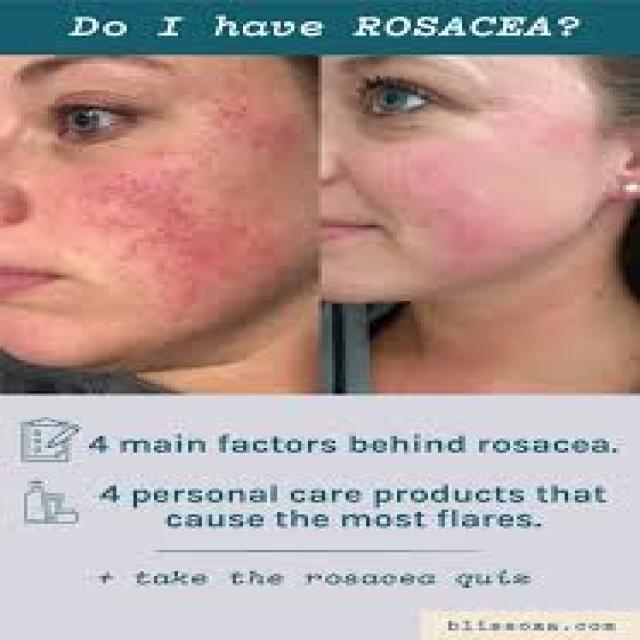Rosacea: (59, 119, 302, 318), (362, 146, 524, 276)
